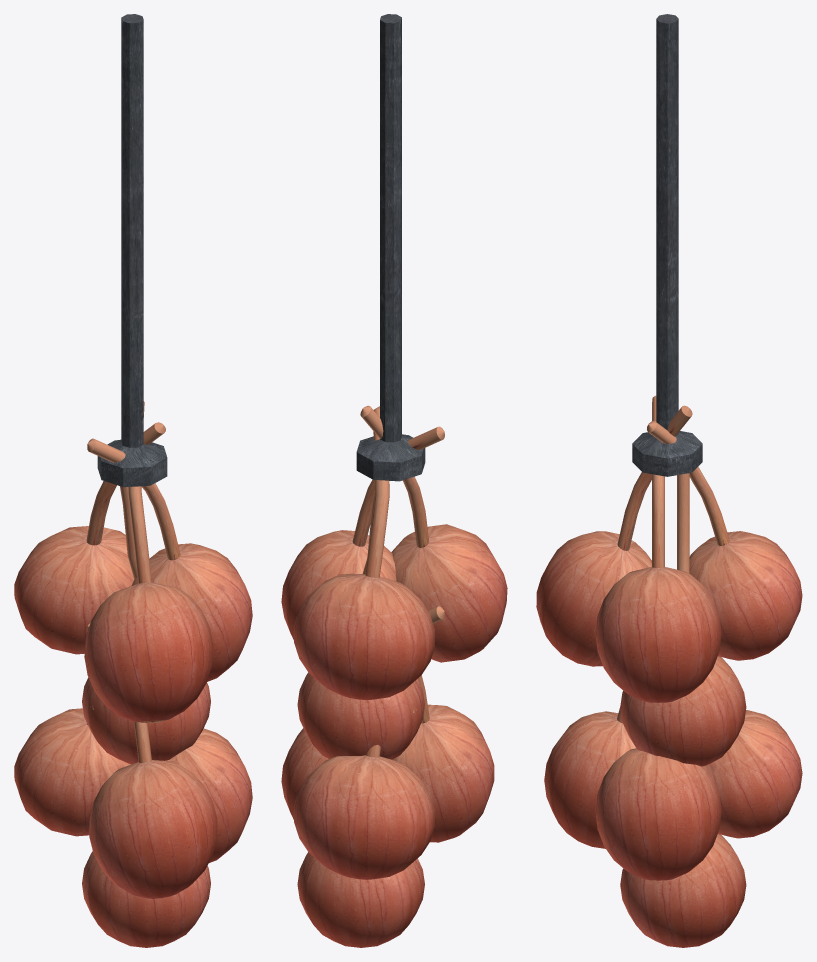
The model's file is onions.fbx.
3 renders of one model, left to right at view 1: azimuth 30°, elevation 25°; view 2: azimuth 150°, elevation 25°; view 3: azimuth 270°, elevation 25°, orthographic. The views are drawn at different scales.
Parts seen in each view (by area): view 1: Mesh; view 2: Mesh; view 3: Mesh.
Part boxes in pixels (x1=…): Mesh: x1=14, y1=14, x2=252, y2=947; Mesh: x1=281, y1=14, x2=507, y2=947; Mesh: x1=536, y1=14, x2=802, y2=947.
Bounding box in the file's own units: 45.42 × 224 × 59.02.
